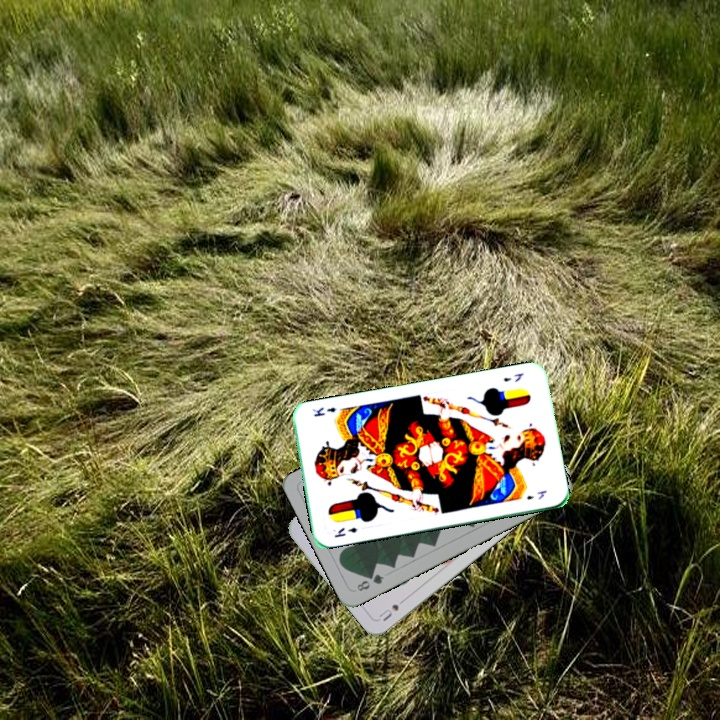EK: (330, 523, 359, 540), (499, 369, 526, 385)
G8: (353, 570, 387, 594)
SU: (375, 600, 401, 624)
